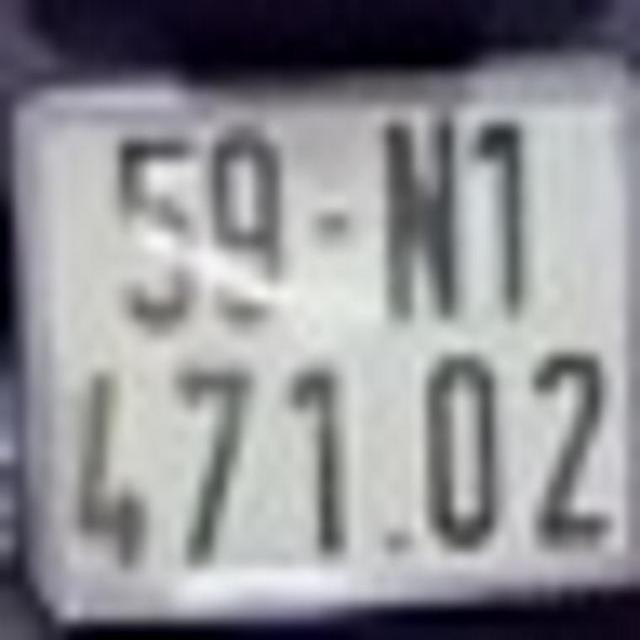0: (421, 347, 498, 552)
1: (284, 368, 346, 560), (474, 119, 524, 322)
2: (532, 348, 616, 548)
4: (78, 366, 148, 568)
5: (116, 136, 200, 329)
7: (174, 363, 252, 567)
9: (207, 126, 284, 324)
N: (376, 112, 459, 317)
